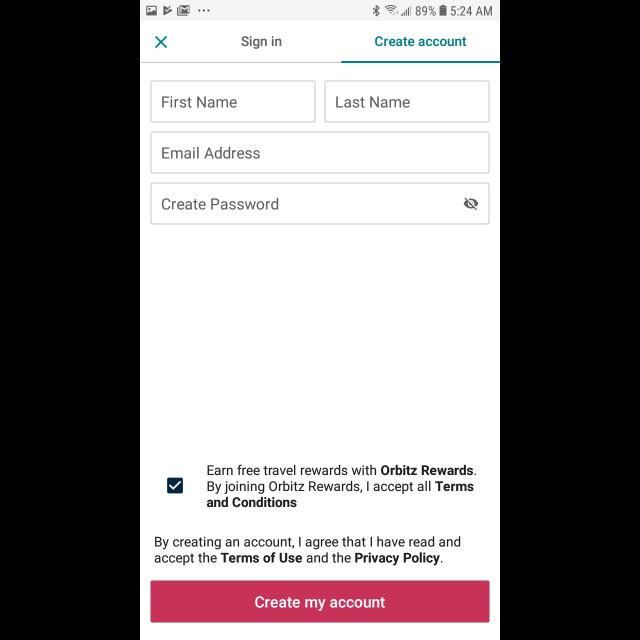checkbox: (168, 478, 182, 494)
icon: (464, 198, 478, 210), (155, 36, 167, 48)
input: (150, 132, 490, 174), (151, 183, 489, 225), (324, 81, 490, 123), (152, 81, 316, 123)
text: (208, 464, 477, 508), (155, 536, 461, 566), (162, 198, 278, 210), (163, 147, 261, 159), (375, 36, 467, 48), (162, 96, 238, 108), (336, 96, 410, 108), (242, 36, 282, 50)
textbutton: (150, 580, 490, 622)
uppertaskbar: (140, 1, 500, 22)
